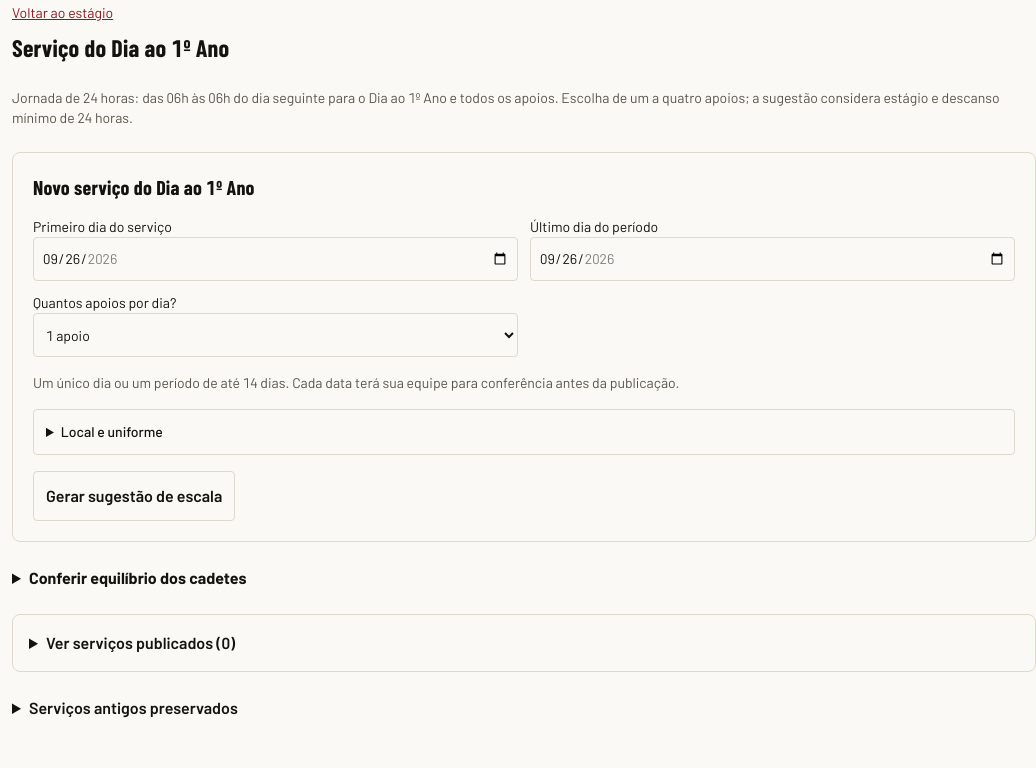
it: horário padrão do Dia ao 1º Ano › inicia às 06h e termina às 06h do dia seguinte
expect the text "Jornada de 24 horas: das 06h às 06h" is shown: met, box [12, 89, 1000, 126]
Type "2026-09-27" into the date field labelled "Primeiro dia do serviço" at point(276, 259), box [33, 237, 518, 281]
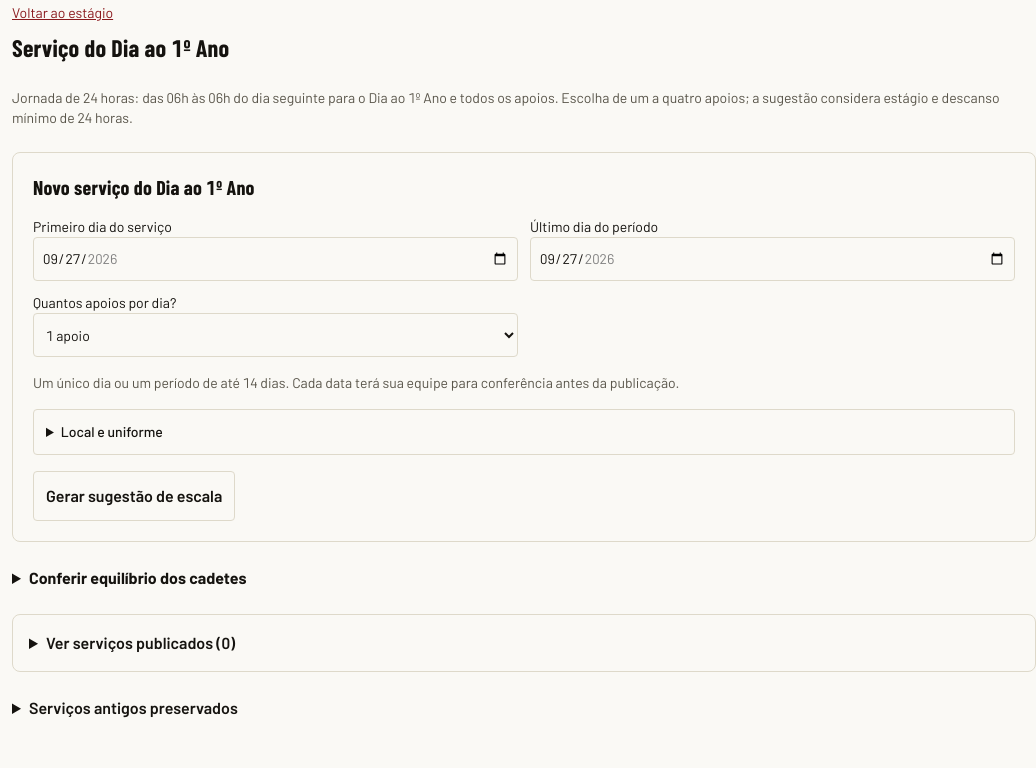
expect the date field labelled "Último dia do período" holds "2026-09-27": met, box [530, 237, 1015, 281]
